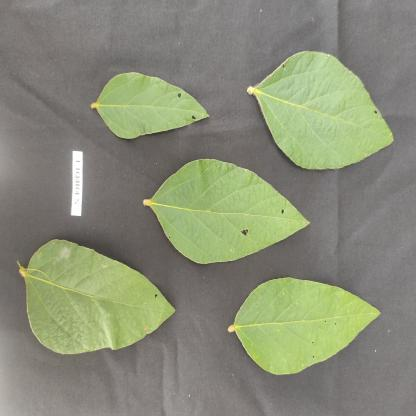label: (66, 151, 86, 221)
leaflets: (16, 229, 186, 362), (242, 34, 400, 176), (138, 156, 314, 266), (230, 270, 385, 382), (84, 33, 212, 153)
